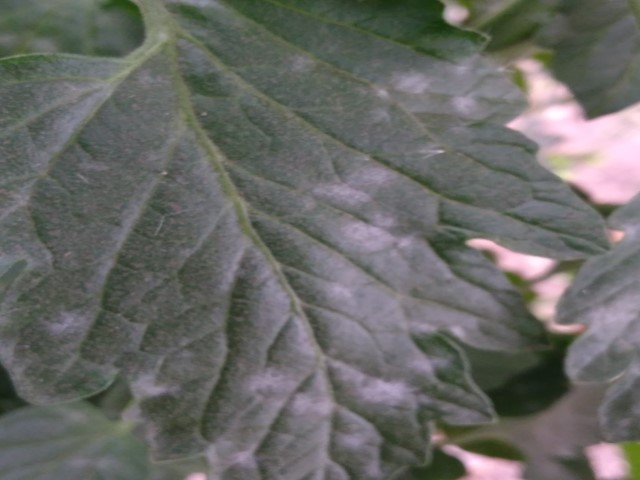oidio: (346, 215, 420, 260), (358, 369, 422, 414), (242, 362, 297, 396), (317, 177, 369, 209), (391, 65, 431, 102), (51, 304, 91, 341), (290, 51, 319, 78)
